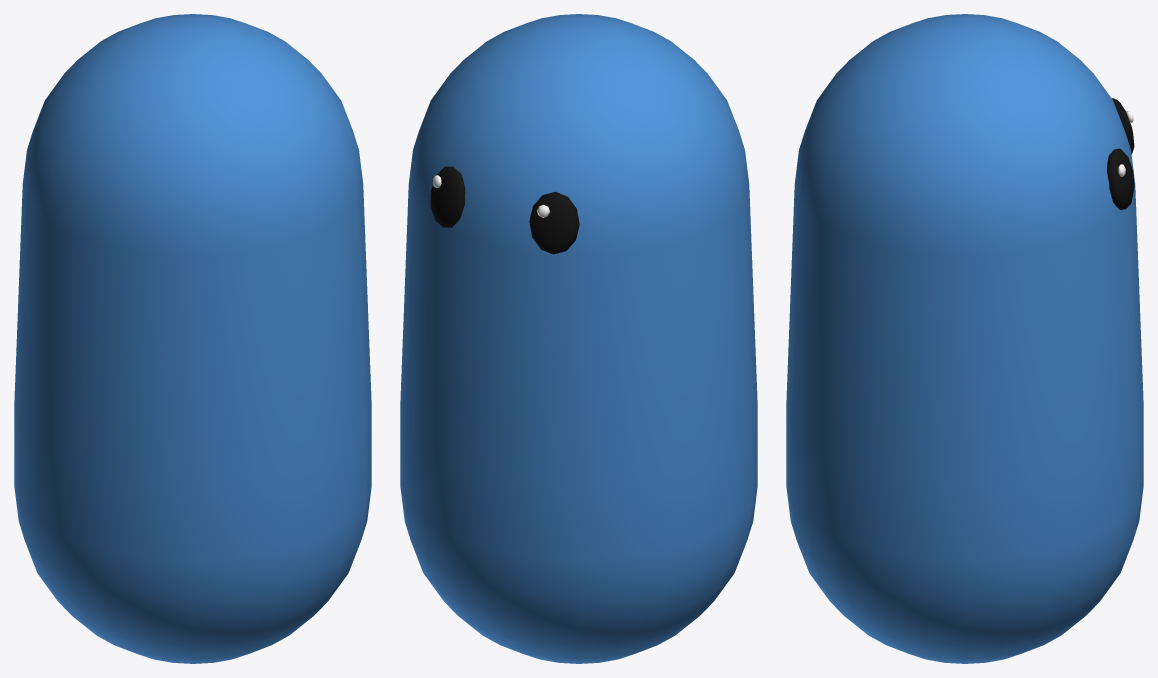
The model's file is personnage.fbx.
3 views of the same model, side by side, from view 1: azimuth 30°, elevation 25°; view 2: azimuth 150°, elevation 25°; view 3: azimuth 270°, elevation 25° (orthographic).
Parts seen in each view (by area): view 1: Corps; view 2: Corps, OeilDroit, OeilGauche; view 3: Corps, OeilGauche.
Boxes of the visible parts, x1,y1,x2,y2 form: Corps: [14, 14, 371, 663]; Corps: [400, 14, 757, 663]; OeilDroit: [529, 191, 579, 254]; OeilGauche: [430, 166, 465, 227]; Corps: [786, 14, 1143, 663]; OeilGauche: [1107, 148, 1134, 209].
Size of the model in its own units: 1.05 by 2 by 1.05.
